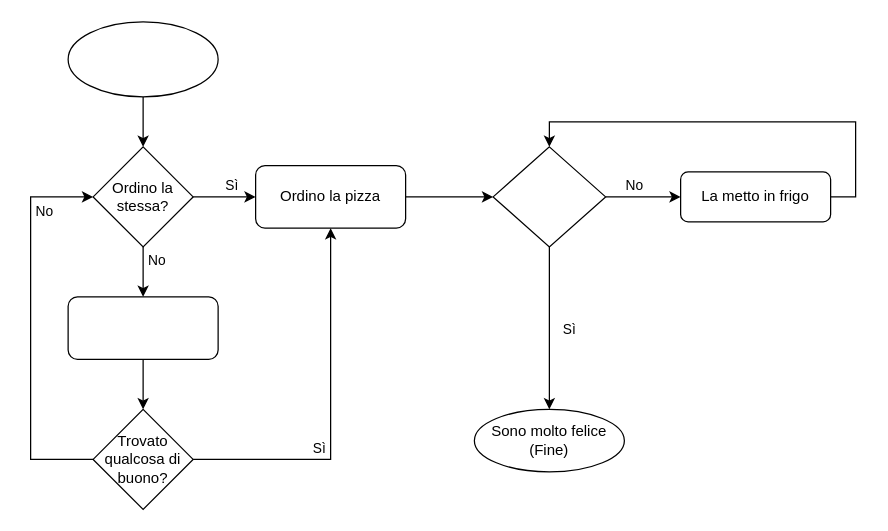
This 888x531 diagram has some shape labels left out. Here are the shapes that lost their labels. From the top down, the centre of each, then its label:
At point (142, 59): "Ordiniamo una pizza (Inizio)".
At point (549, 196): "Riesco a finirla?".
At point (142, 327): "Guardo il listino".
